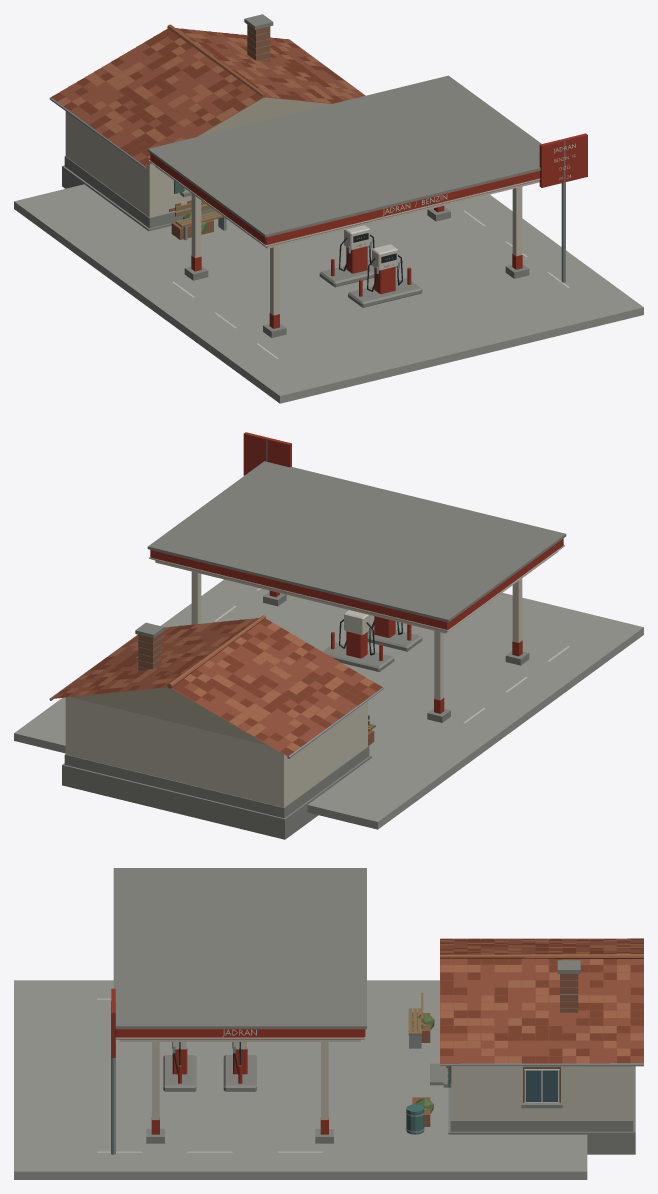
Rendered from gasstation.glb.
The picture shows the model from 3 angles, top to bottom: view 1: azimuth 30°, elevation 25°; view 2: azimuth 150°, elevation 25°; view 3: azimuth 270°, elevation 25°; orthographic projection. The views are drawn at different scales.
Parts seen in each view (by area): view 1: gasstation_visual; view 2: gasstation_visual; view 3: gasstation_visual.
Part boxes in pixels (<box>): gasstation_visual: <box>14,14,643,403</box>; gasstation_visual: <box>14,432,643,839</box>; gasstation_visual: <box>14,868,643,1179</box>.
Size of what is drawn, in the model's own units: 15 by 6.33 by 20.88.
